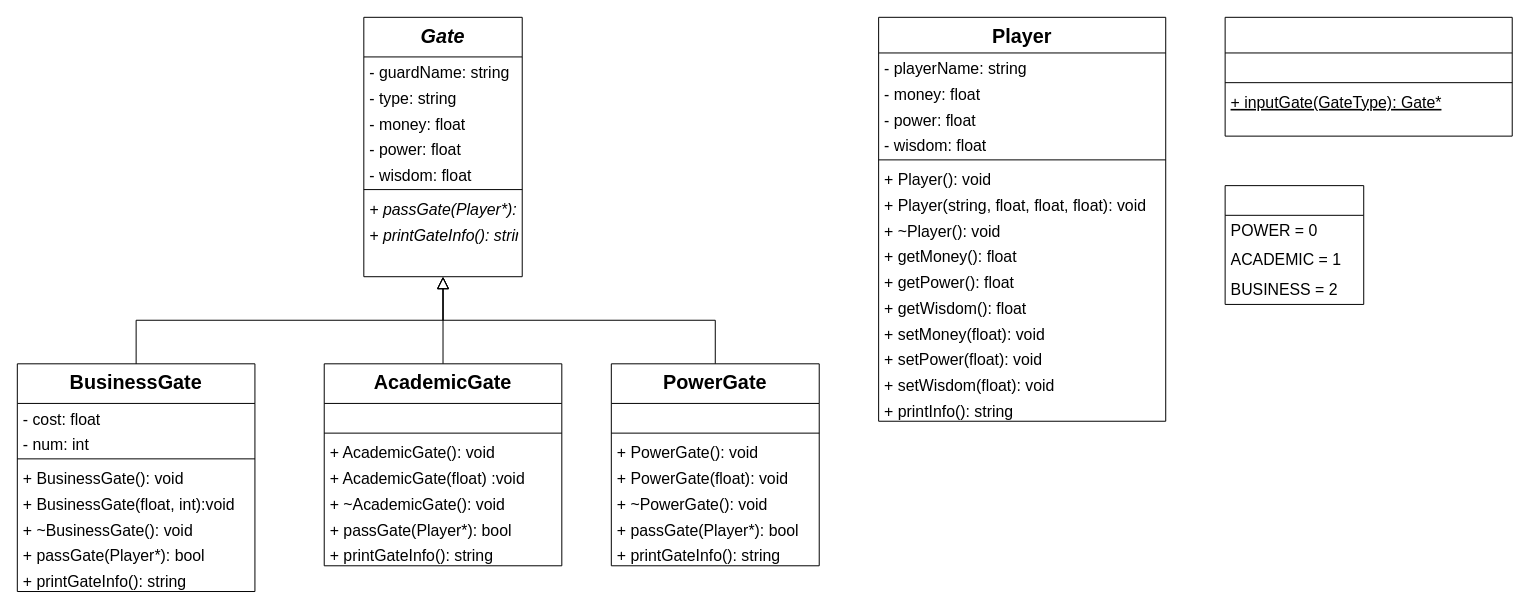
Image size: 1530x612. Some labels were removed from this diagram. Each missing label, with the box of its shape:
GateType: (1224, 185, 1364, 304)
InputGateProvider: (1224, 16, 1512, 136)
